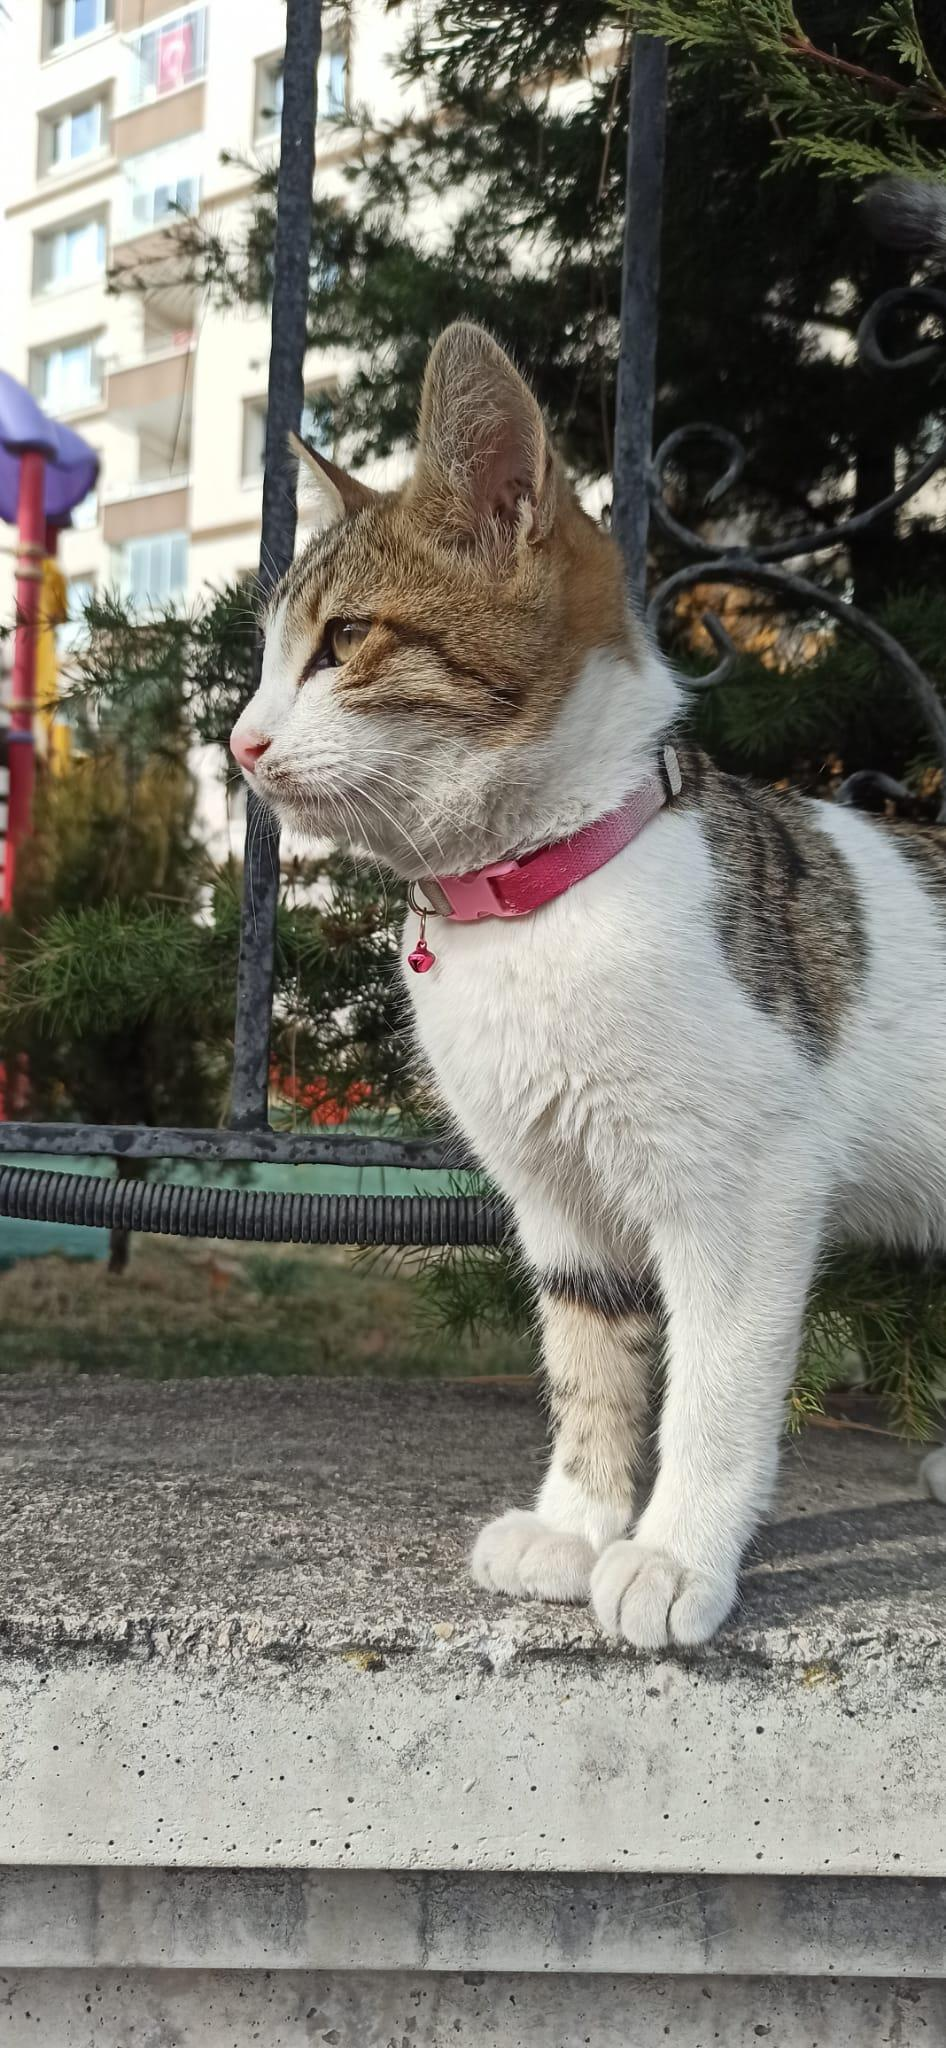kedo: (230, 313, 946, 1640)
